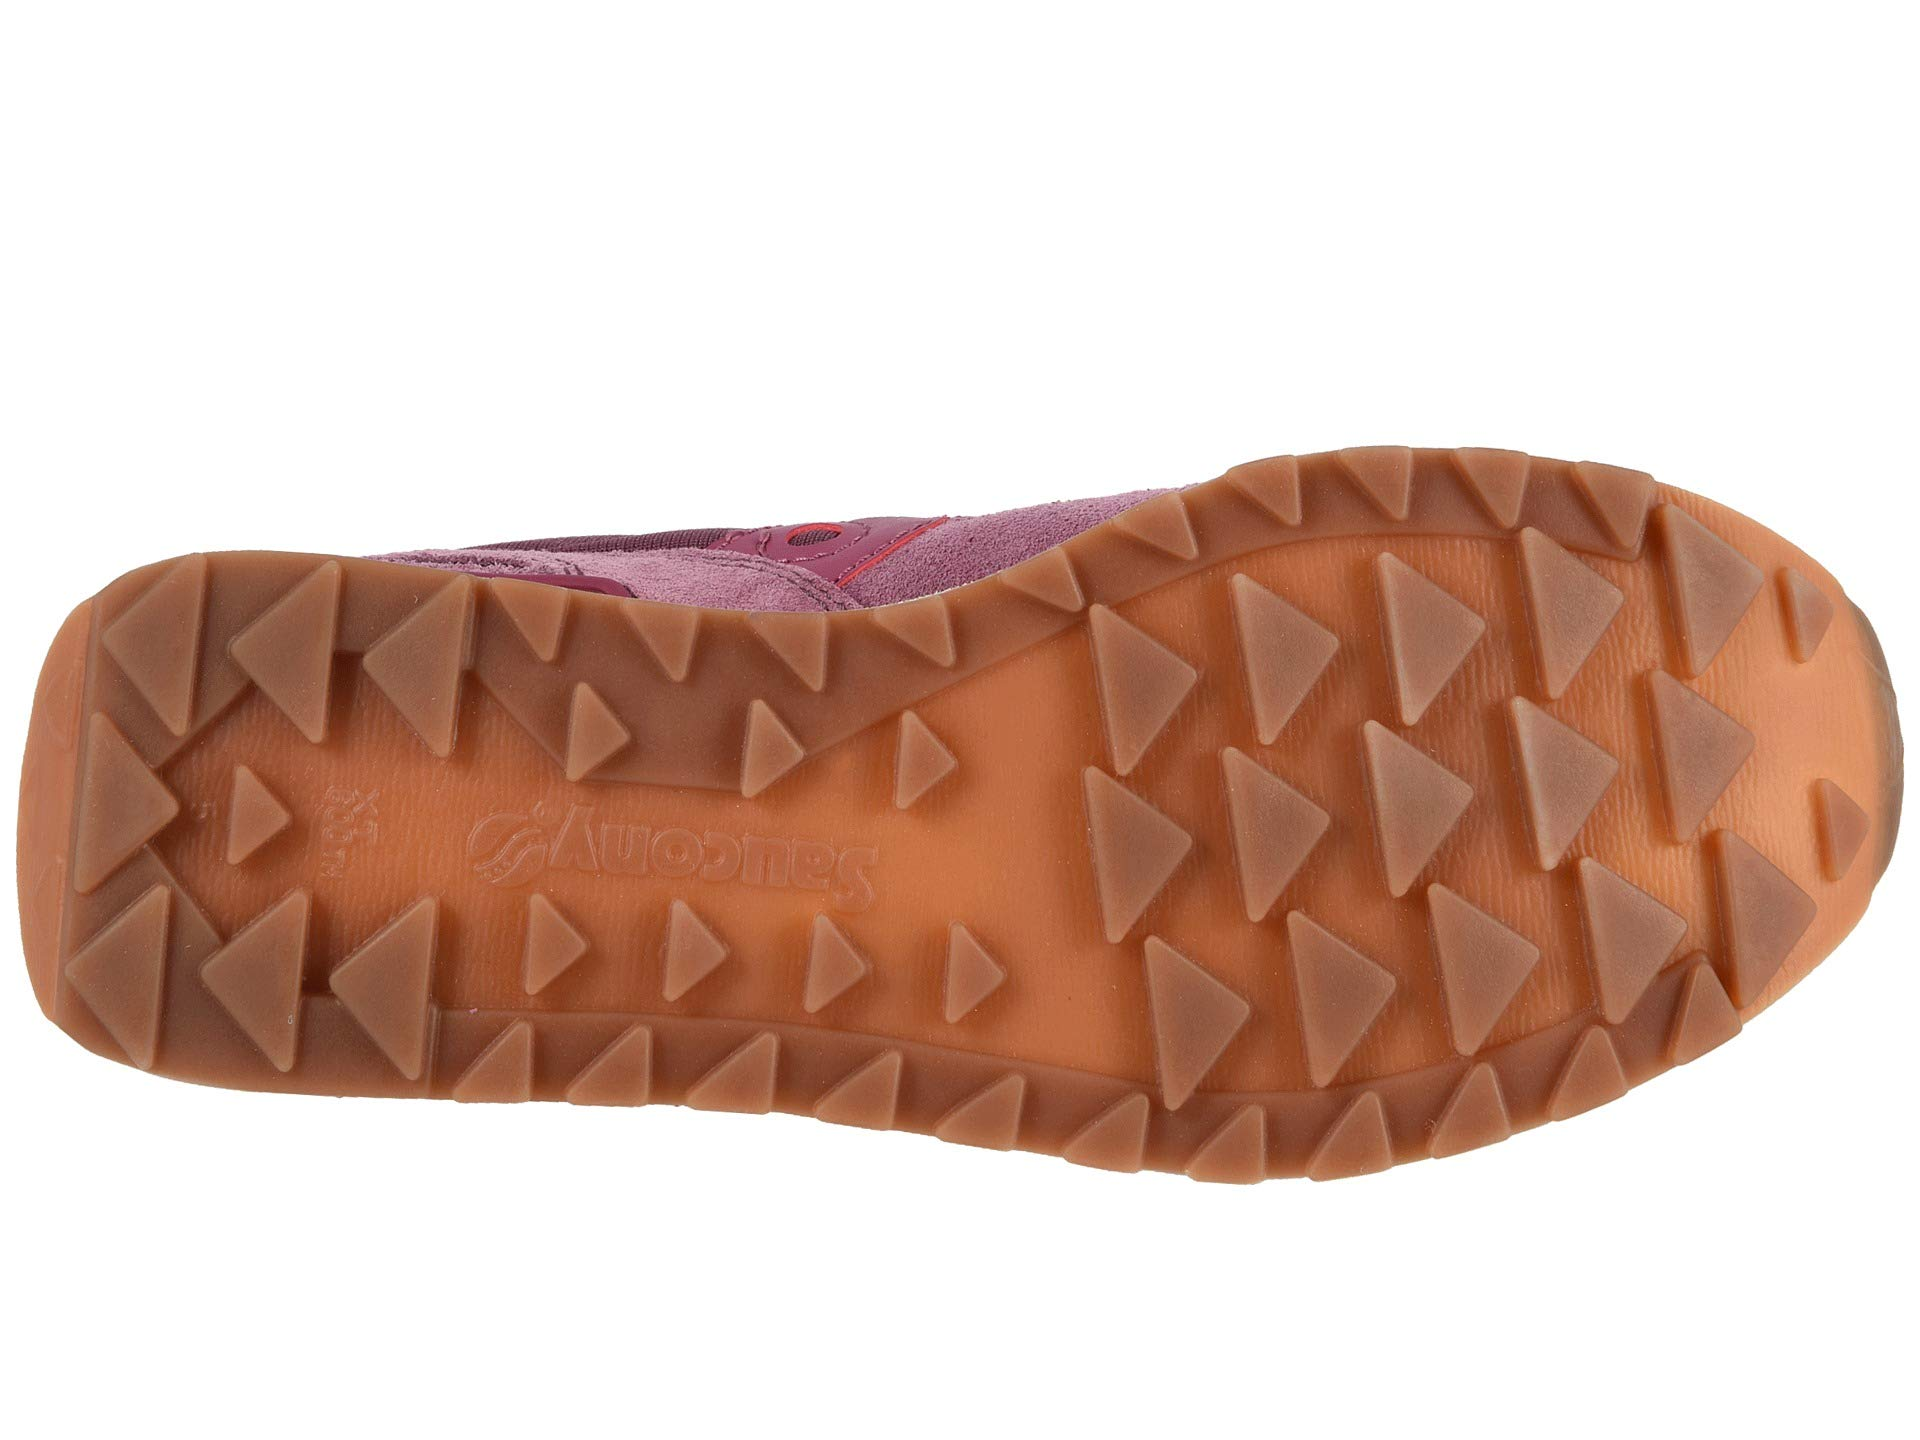triangle: (1063, 588, 1519, 1026), (91, 666, 478, 1035)
